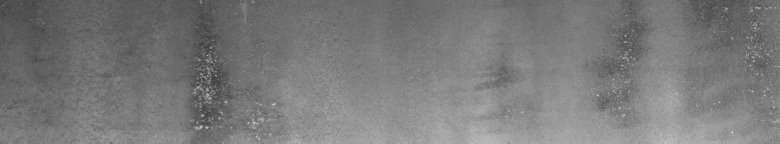hc: (192, 47, 255, 130)
